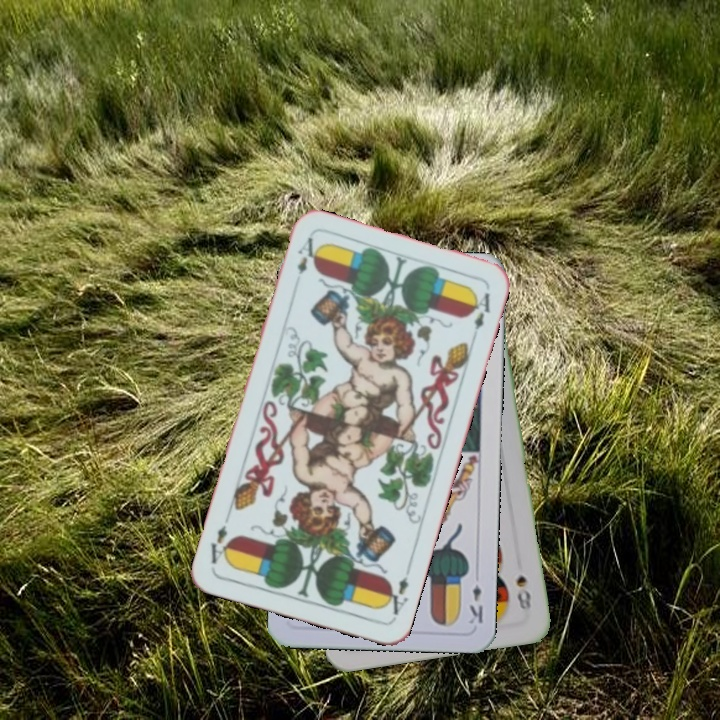EA: (380, 563, 413, 621), (293, 233, 320, 277)
EK: (465, 581, 486, 627)
S8: (512, 571, 534, 613)
